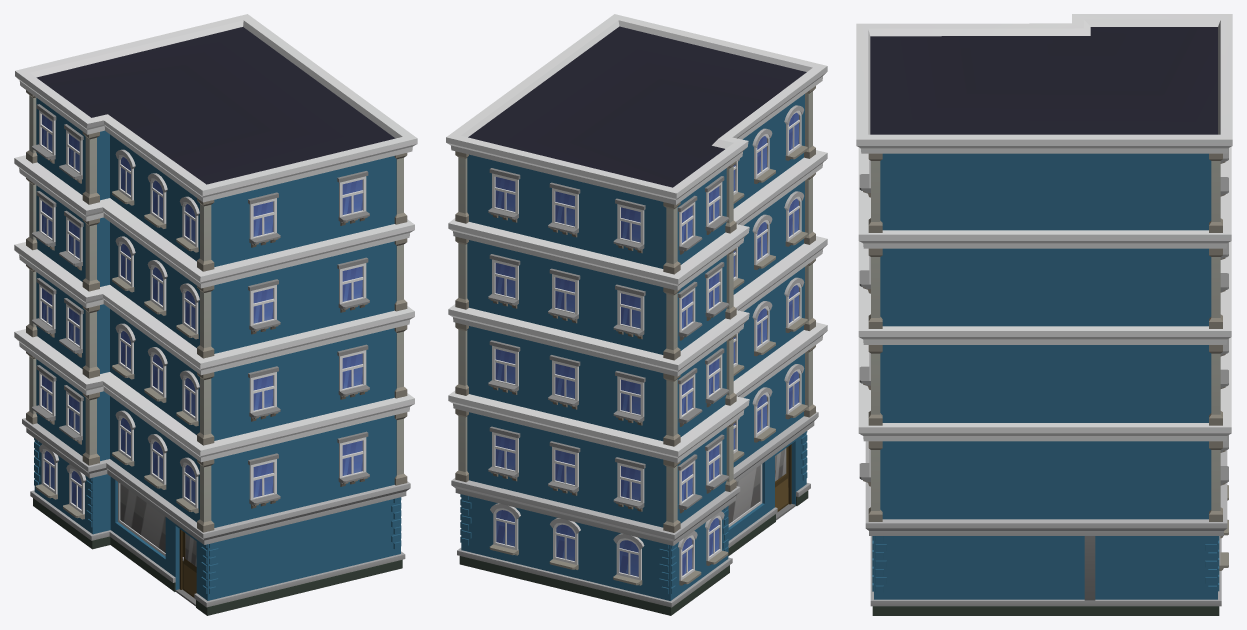
The model's file is Building_1_5_O.fbx.
3 views of the same model, side by side, from view 1: azimuth 30°, elevation 25°; view 2: azimuth 150°, elevation 25°; view 3: azimuth 270°, elevation 25° (orthographic). The views are drawn at different scales.
Visible parts, largest first — view 1: Building_1_5_O; view 2: Building_1_5_O; view 3: Building_1_5_O.
Part boxes in pixels (x1,y1,x2,y2): Building_1_5_O: (14,14,417,615); Building_1_5_O: (446,14,827,615); Building_1_5_O: (856,14,1232,615).
Bounding box in the file's own units: 847 × 1501 × 1067.
